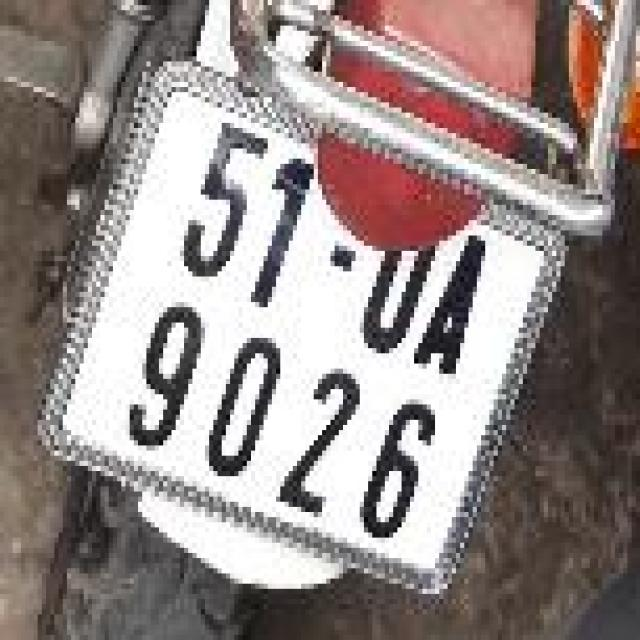0: (196, 319, 295, 496)
1: (237, 144, 327, 322)
2: (269, 358, 372, 526)
5: (165, 112, 276, 305)
6: (351, 387, 451, 555)
9: (115, 297, 217, 469)
A: (406, 225, 503, 391)
D: (345, 200, 454, 378)
